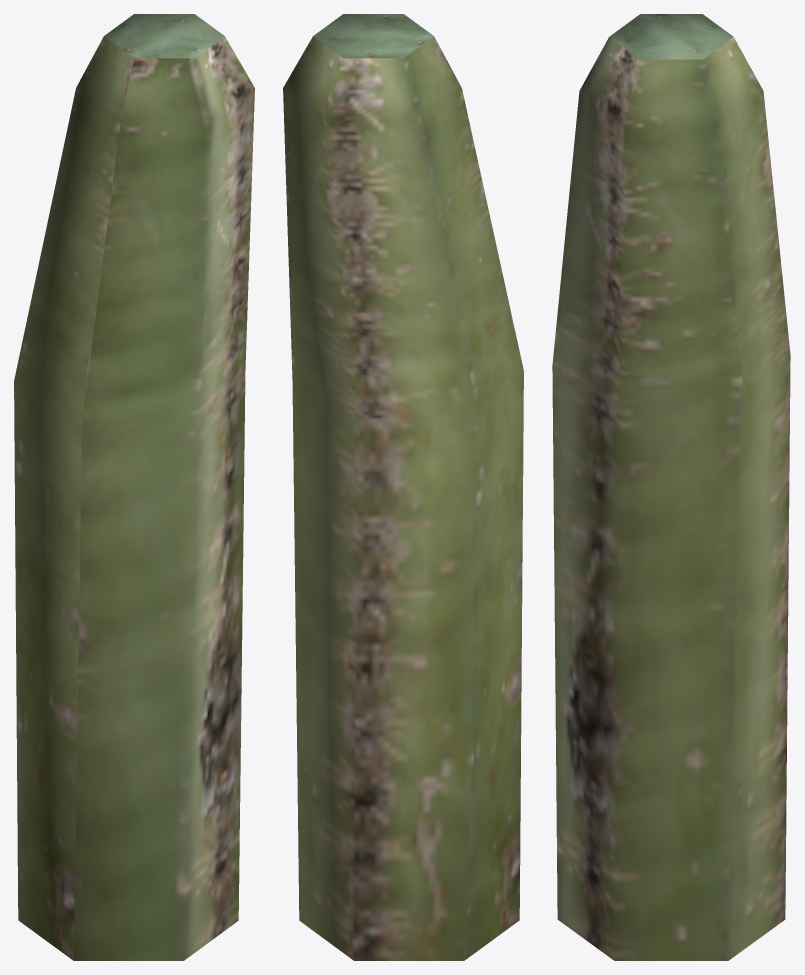
Rendered from cactus_stenocerus_small_b.dae.
3 views of the same model, side by side, from view 1: azimuth 30°, elevation 25°; view 2: azimuth 150°, elevation 25°; view 3: azimuth 270°, elevation 25° (orthographic). The views are drawn at different scales.
Visible parts, largest first — view 1: Circle_001.002; view 2: Circle_001.002; view 3: Circle_001.002.
Part boxes in pixels (x1=…): Circle_001.002: x1=14, y1=14, x2=254, y2=960; Circle_001.002: x1=283, y1=14, x2=523, y2=960; Circle_001.002: x1=552, y1=14, x2=790, y2=960.
Bounding box in the file's own units: 1.34 × 1.38 × 5.75.
